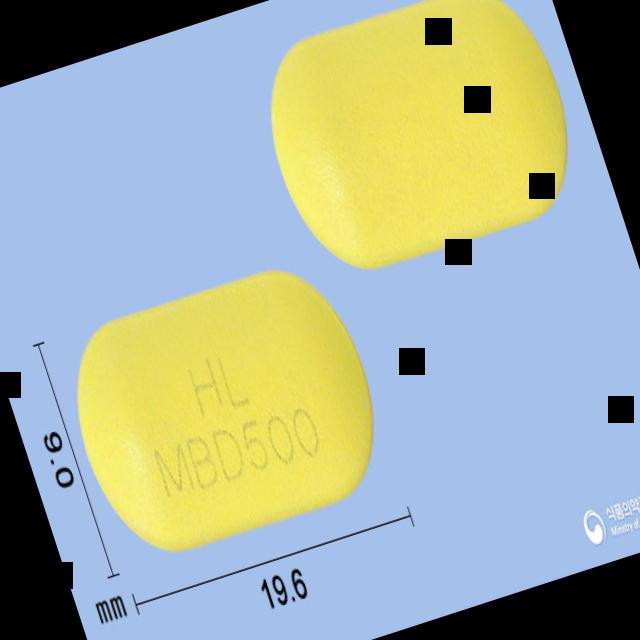Clana: (49, 248, 402, 572), (243, 0, 596, 291)
